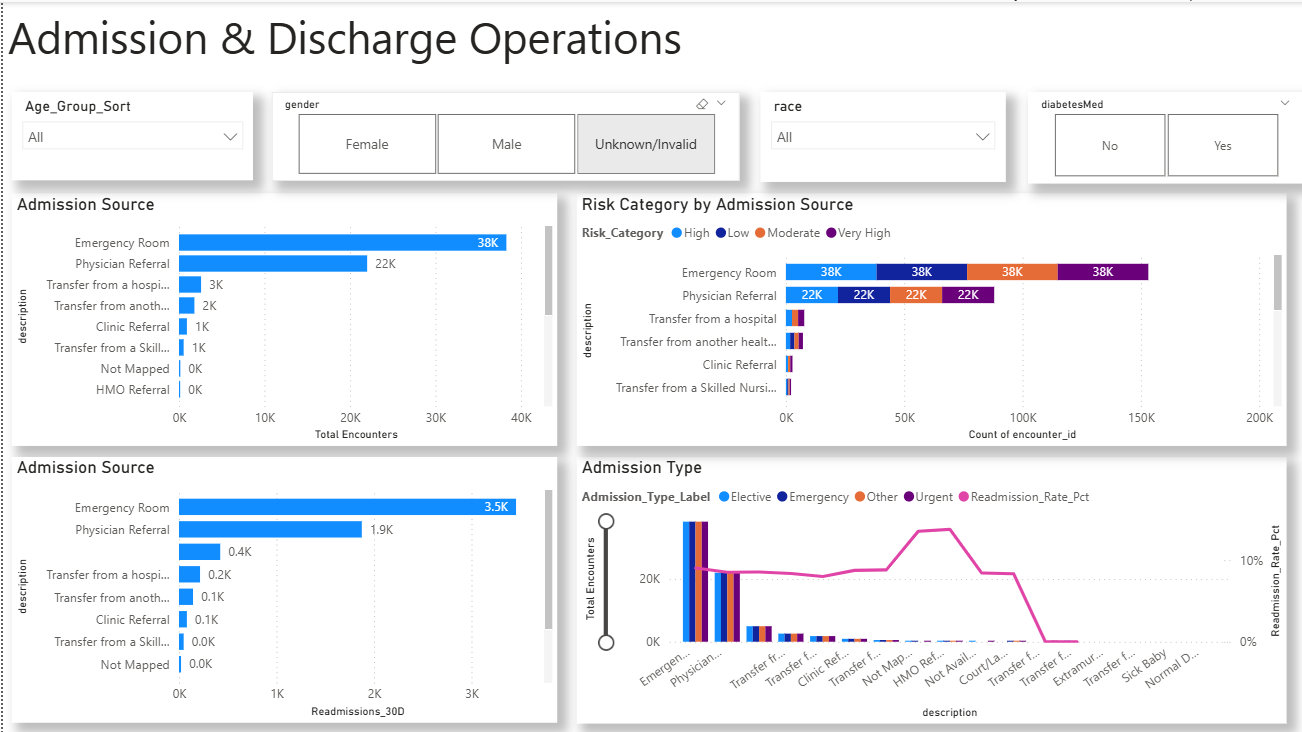

This screenshot's page, from the dashboard's own definition file:
{"tool":"powerbi","page":{"name":"Admission & Discharge Operations","canvas":[1280,720],"ordinal":2},"visuals":[{"type":"clusteredBarChart","title":"Admission Source","fields":{"Category":["admission.description"],"Y":["admission.Total Encounters"]},"box":[8.8,187.2,534,247.5],"z":0},{"type":"textbox","box":[0,0,1122,67.8],"z":1000},{"type":"clusteredBarChart","title":"Admission Source","fields":{"Category":["admission.description"],"Y":["hospital_readmission_predictions.Readmissions_30D"]},"box":[8.8,444.8,534,260.1],"z":2000},{"type":"lineClusteredColumnComboChart","title":"Admission Type","fields":{"Series":["hospital_readmission_predictions.Admission_Type_Label"],"Category":["admission.description"],"Y":["admission.Total Encounters"],"Y2":["hospital_readmission_predictions.Readmission_Rate_Pct"]},"box":[561.2,444.6,694.3,260.7],"z":3000},{"type":"barChart","title":"Risk Category by Admission Source","fields":{"Category":["admission.description"],"Series":["hospital_readmission_predictions.Risk_Category"],"Y":["CountNonNull(diabetic_data.encounter_id)"]},"box":[561.6,187.2,694.8,247.5],"z":4000},{"type":"slicer","fields":{"Values":["hospital_readmission_predictions.Age_Group_Sort"]},"box":[8.8,87.9,236.2,86.7],"z":5000},{"type":"slicer","fields":{"Values":["diabetic_data.gender"]},"box":[262.6,87.9,457.3,86.7],"z":6000},{"type":"slicer","fields":{"Values":["diabetic_data.race"]},"box":[741,88,239.7,88],"z":7000},{"type":"slicer","fields":{"Values":["diabetic_data.diabetesMed"]},"box":[1002.7,88,269,89.3],"z":8000}]}

Visuals, with their boxes in screenshot pixels (x1, y1, x2, y2), scaled from the page's 1280x720 canvas onto the 1302x732 screenshot:
"Admission Source" clusteredBarChart: rect(9, 190, 552, 442)
textbox: rect(0, 0, 1141, 69)
"Admission Source" clusteredBarChart: rect(9, 452, 552, 717)
"Admission Type" lineClusteredColumnComboChart: rect(571, 452, 1277, 717)
"Risk Category by Admission Source" barChart: rect(571, 190, 1278, 442)
slicer - hospital_readmission_predictions.Age_Group_Sort: rect(9, 89, 249, 178)
slicer - diabetic_data.gender: rect(267, 89, 732, 178)
slicer - diabetic_data.race: rect(754, 89, 998, 179)
slicer - diabetic_data.diabetesMed: rect(1020, 89, 1294, 180)
